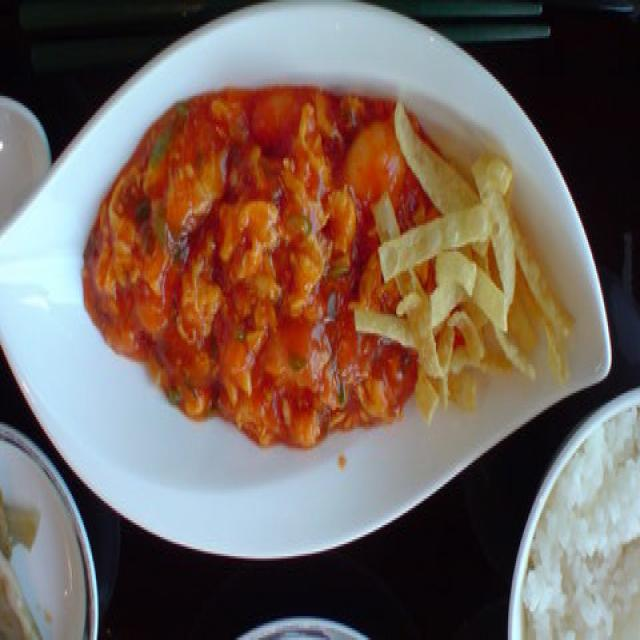熟制海鲜: (28, 29, 260, 640)
